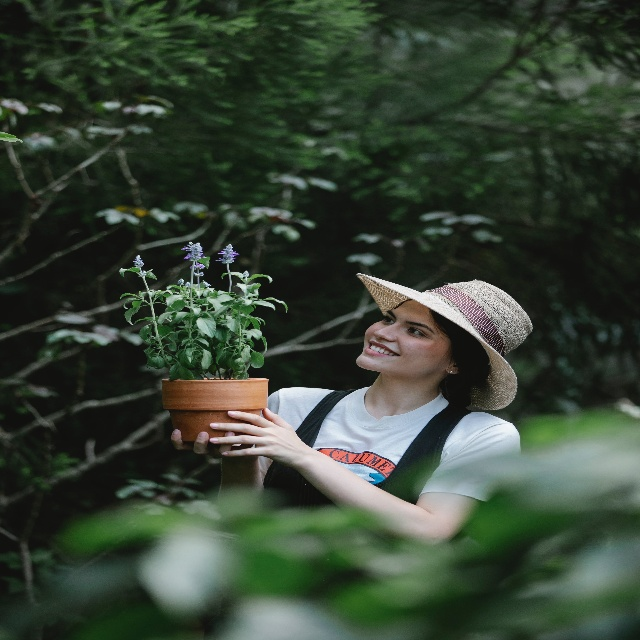Sin_guantes: (209, 407, 300, 467), (170, 428, 235, 457)
